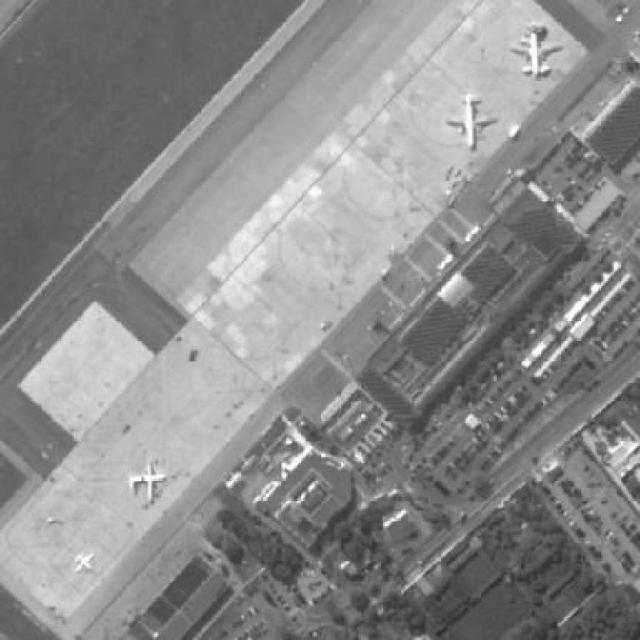airplane: (509, 23, 565, 82), (446, 93, 498, 152), (128, 459, 171, 500), (73, 553, 97, 577)
